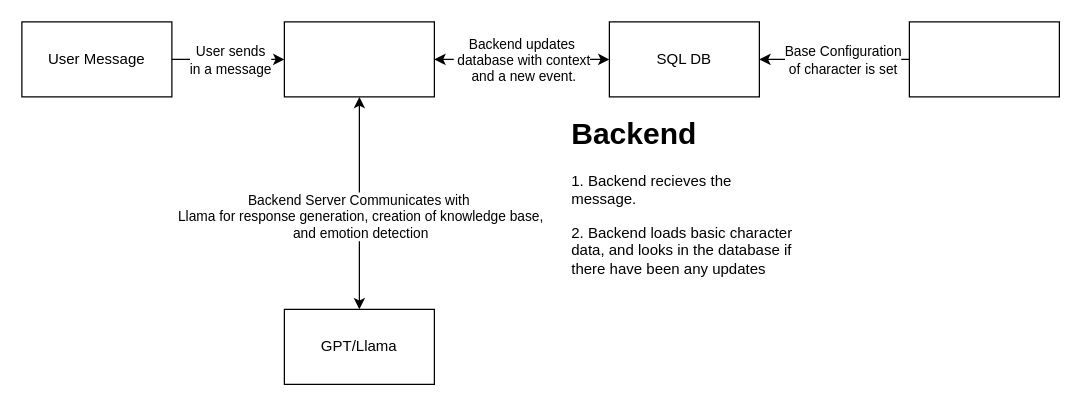
This 1081x406 diagram has some shape labels left out. Each missing label, with the centre of its shape:
"Backend Server" goes at pixel 358 59.
"Character Data" goes at pixel 983 59.
